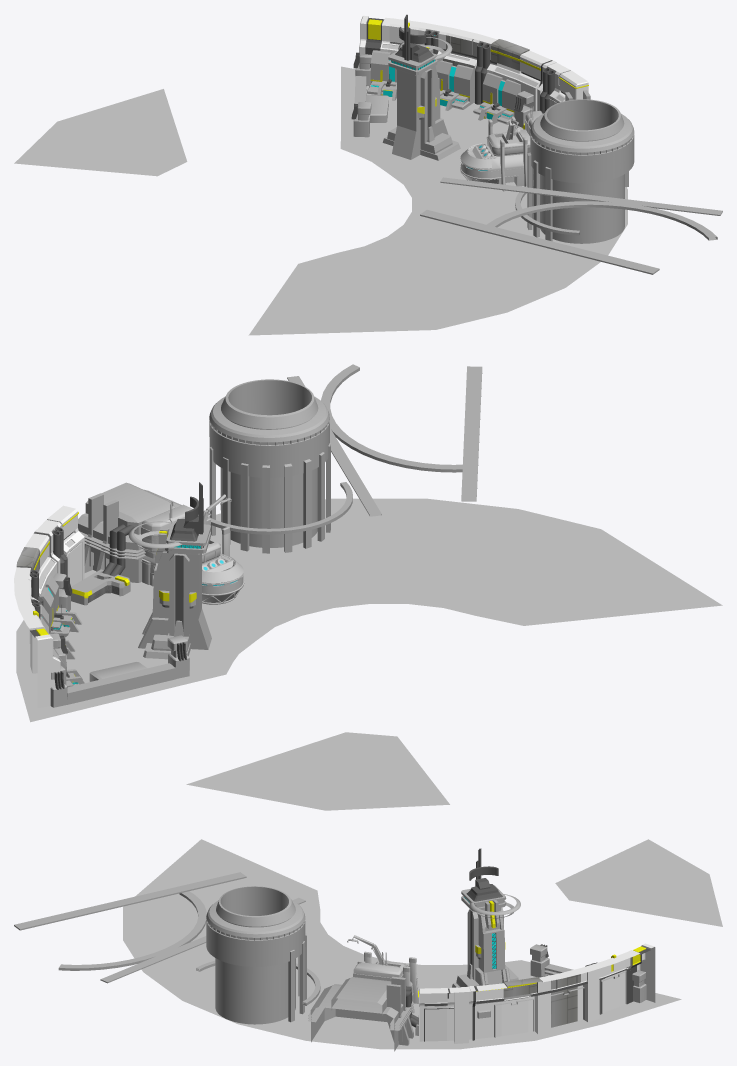
The model's file is Mesh_Nor_SECTIONS_LowerCircle.fbx.
3 views of the same model, one above another, from view 1: azimuth 30°, elevation 25°; view 2: azimuth 150°, elevation 25°; view 3: azimuth 270°, elevation 25° (orthographic). The views are drawn at different scales.
Visible parts, largest first — view 1: GROUND, forge, replaceable, NewWall, WATCH_TOWER, Mesh_Building_Nor_Artillery_Building, BARRACKS2.001, BARRACKS2, BARRACKS2.002; view 2: GROUND, forge, replaceable, WATCH_TOWER, NewWall, Mesh_Building_Nor_Artillery_Building, GARAGE, BARRACKS2.001; view 3: GROUND, NewWall, forge, replaceable, WATCH_TOWER, Mesh_Building_Nor_Artillery_Building.
Boxes of the visible parts, x1=… form: GROUND: x1=14, y1=66, x2=627, y2=335; forge: x1=527, y1=99, x2=634, y2=243; replaceable: x1=351, y1=52, x2=722, y2=274; NewWall: x1=359, y1=15, x2=588, y2=111; WATCH_TOWER: x1=382, y1=14, x2=460, y2=160; Mesh_Building_Nor_Artillery_Building: x1=460, y1=105, x2=542, y2=191; BARRACKS2.001: x1=473, y1=72, x2=520, y2=124; BARRACKS2: x1=435, y1=60, x2=474, y2=110; BARRACKS2.002: x1=367, y1=50, x2=396, y2=100; GROUND: x1=16, y1=498, x2=722, y2=810; forge: x1=209, y1=379, x2=330, y2=553; replaceable: x1=48, y1=364, x2=482, y2=707; WATCH_TOWER: x1=128, y1=482, x2=211, y2=659; NewWall: x1=14, y1=505, x2=84, y2=707; Mesh_Building_Nor_Artillery_Building: x1=141, y1=494, x2=244, y2=604; GARAGE: x1=71, y1=524, x2=135, y2=605; BARRACKS2.001: x1=41, y1=575, x2=82, y2=637; GROUND: x1=123, y1=839, x2=722, y2=1049; NewWall: x1=418, y1=943, x2=655, y2=1043; forge: x1=206, y1=886, x2=306, y2=1024; replaceable: x1=14, y1=872, x2=646, y2=1051; WATCH_TOWER: x1=452, y1=848, x2=520, y2=987; Mesh_Building_Nor_Artillery_Building: x1=347, y1=935, x2=418, y2=1013.
Size of the model in its own units: 1317 by 384 by 1854.
